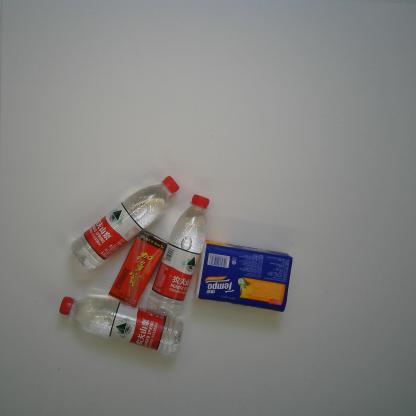Drink: (70, 174, 180, 272), (146, 193, 210, 319), (58, 295, 185, 357), (107, 228, 168, 309)
Tissue: (193, 240, 293, 314)
